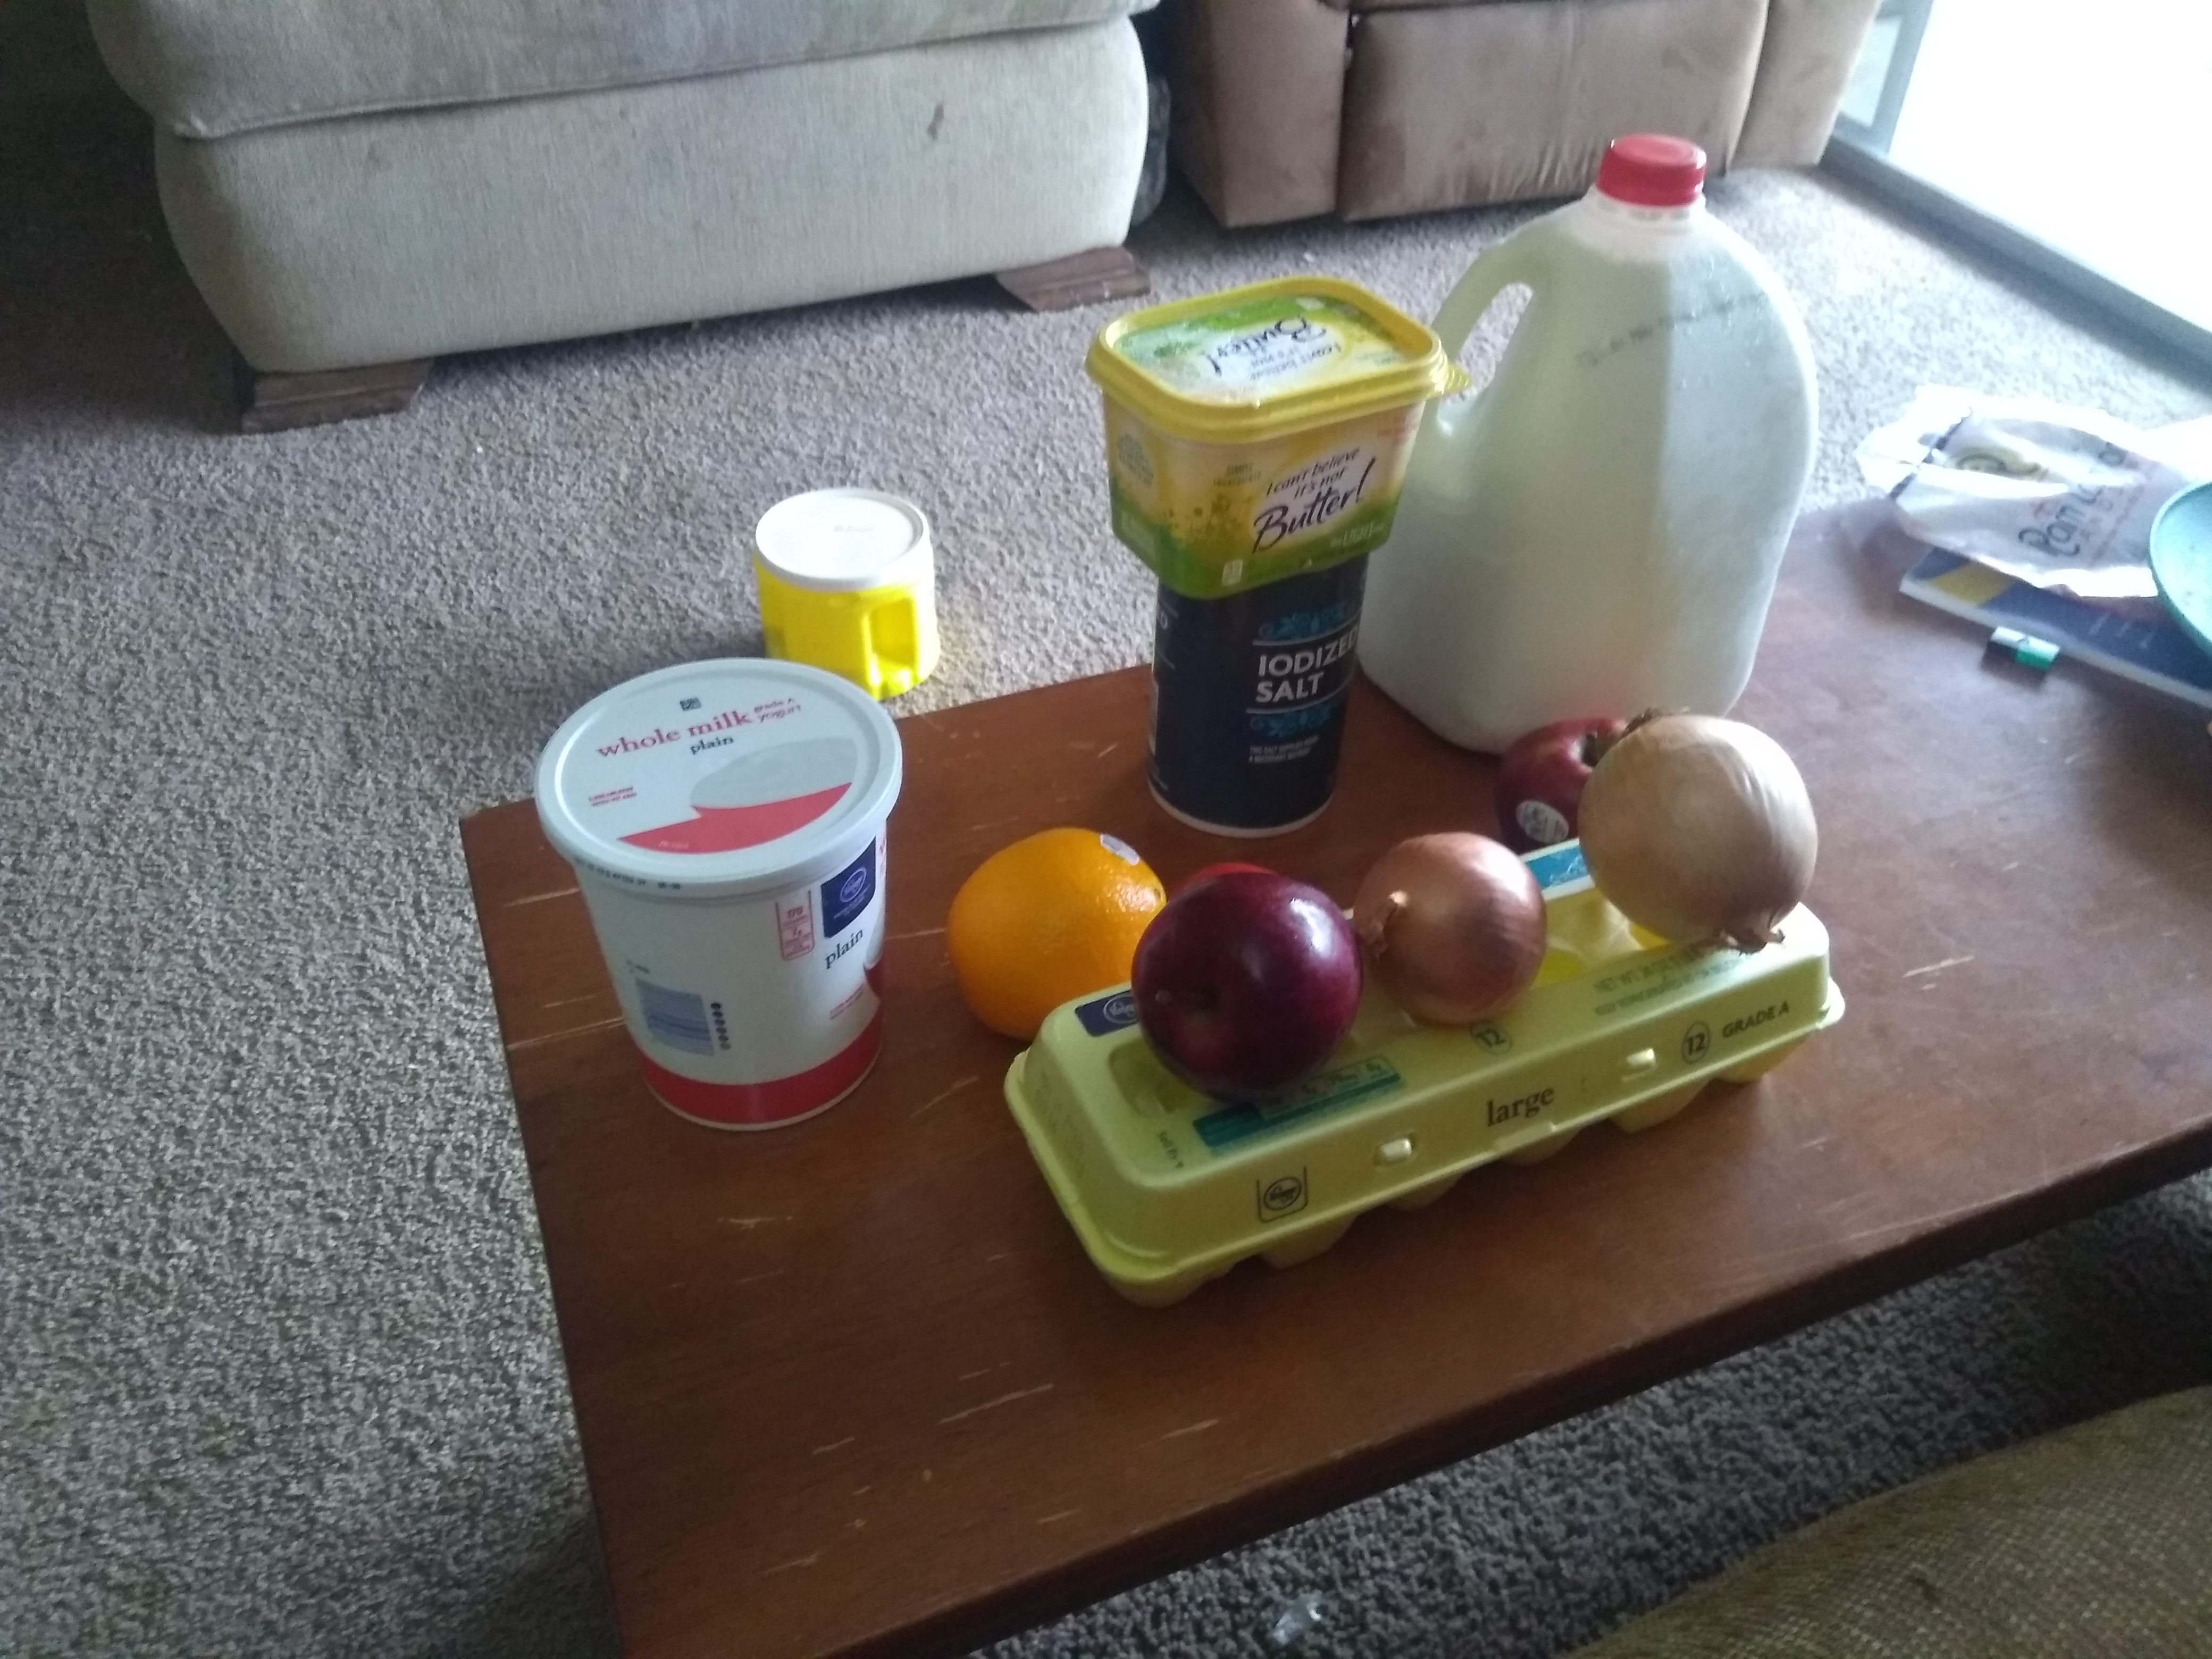apple: (1129, 877, 1366, 1080), (1501, 720, 1599, 833)
butter: (1083, 249, 1425, 573)
eggs: (1148, 802, 1743, 1288)
milk: (1421, 132, 1791, 727)
onion: (1580, 713, 1829, 924), (1346, 821, 1557, 1002)
orange: (941, 819, 1158, 1033)
salt: (1132, 568, 1360, 828)
sugar: (751, 481, 951, 692)
yogurt: (543, 648, 897, 1105)
